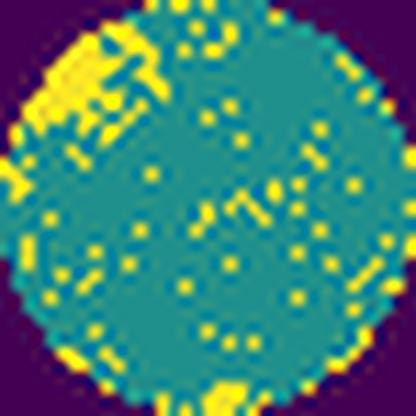Edge-Loc: (6, 20, 162, 156), (198, 373, 260, 416)
